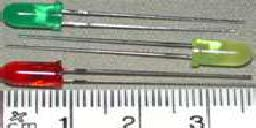LED: (8, 33, 256, 70), (2, 3, 241, 35), (1, 58, 256, 87)
